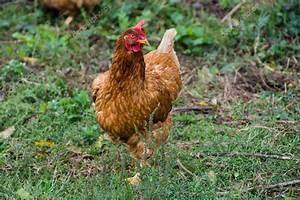hen: (90, 19, 182, 185)
